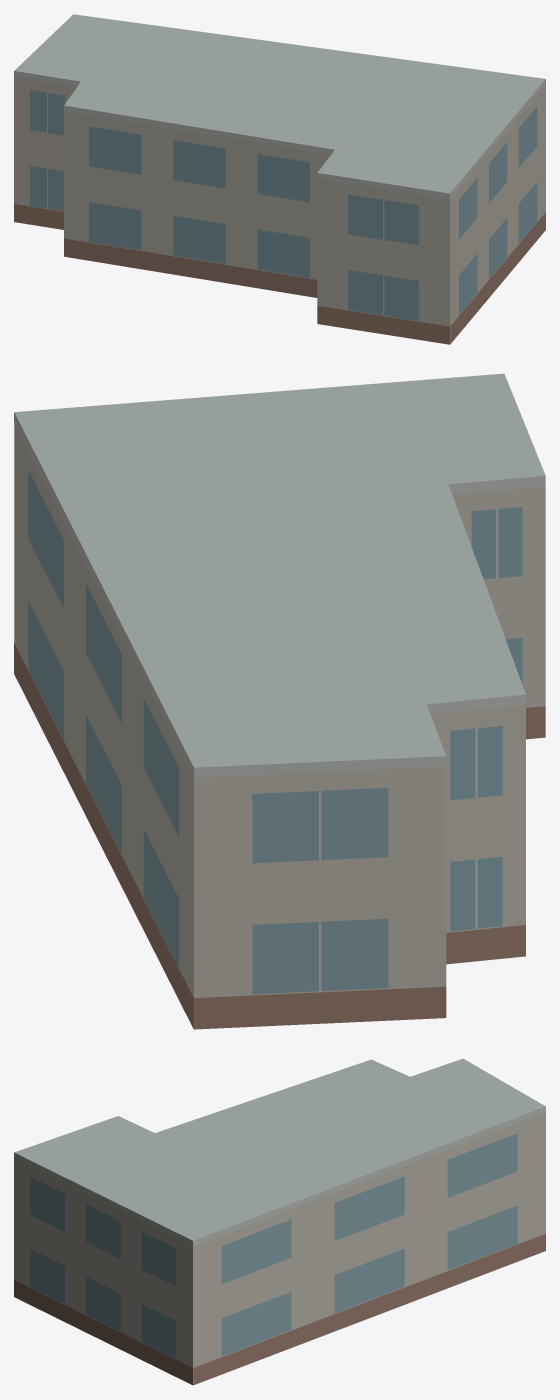
Rendered from survey-upis-32881606.glb.
3 renders of one model, top to bottom at view 1: azimuth 30°, elevation 25°; view 2: azimuth 150°, elevation 25°; view 3: azimuth 270°, elevation 25°, orthographic. The views are drawn at different scales.
Parts seen in each view (by area): view 1: survey-upis-32881606.tmp; view 2: survey-upis-32881606.tmp; view 3: survey-upis-32881606.tmp.
Part boxes in pixels (x1,y1,x2,y2): survey-upis-32881606.tmp: [14, 14, 545, 344]; survey-upis-32881606.tmp: [14, 373, 545, 1029]; survey-upis-32881606.tmp: [14, 1058, 545, 1385].
Size of the model in its own units: 16.51 by 6.1 by 20.35.
